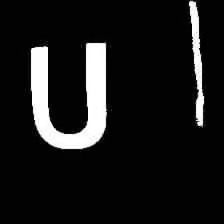LTR_U: (21, 30, 114, 156)
